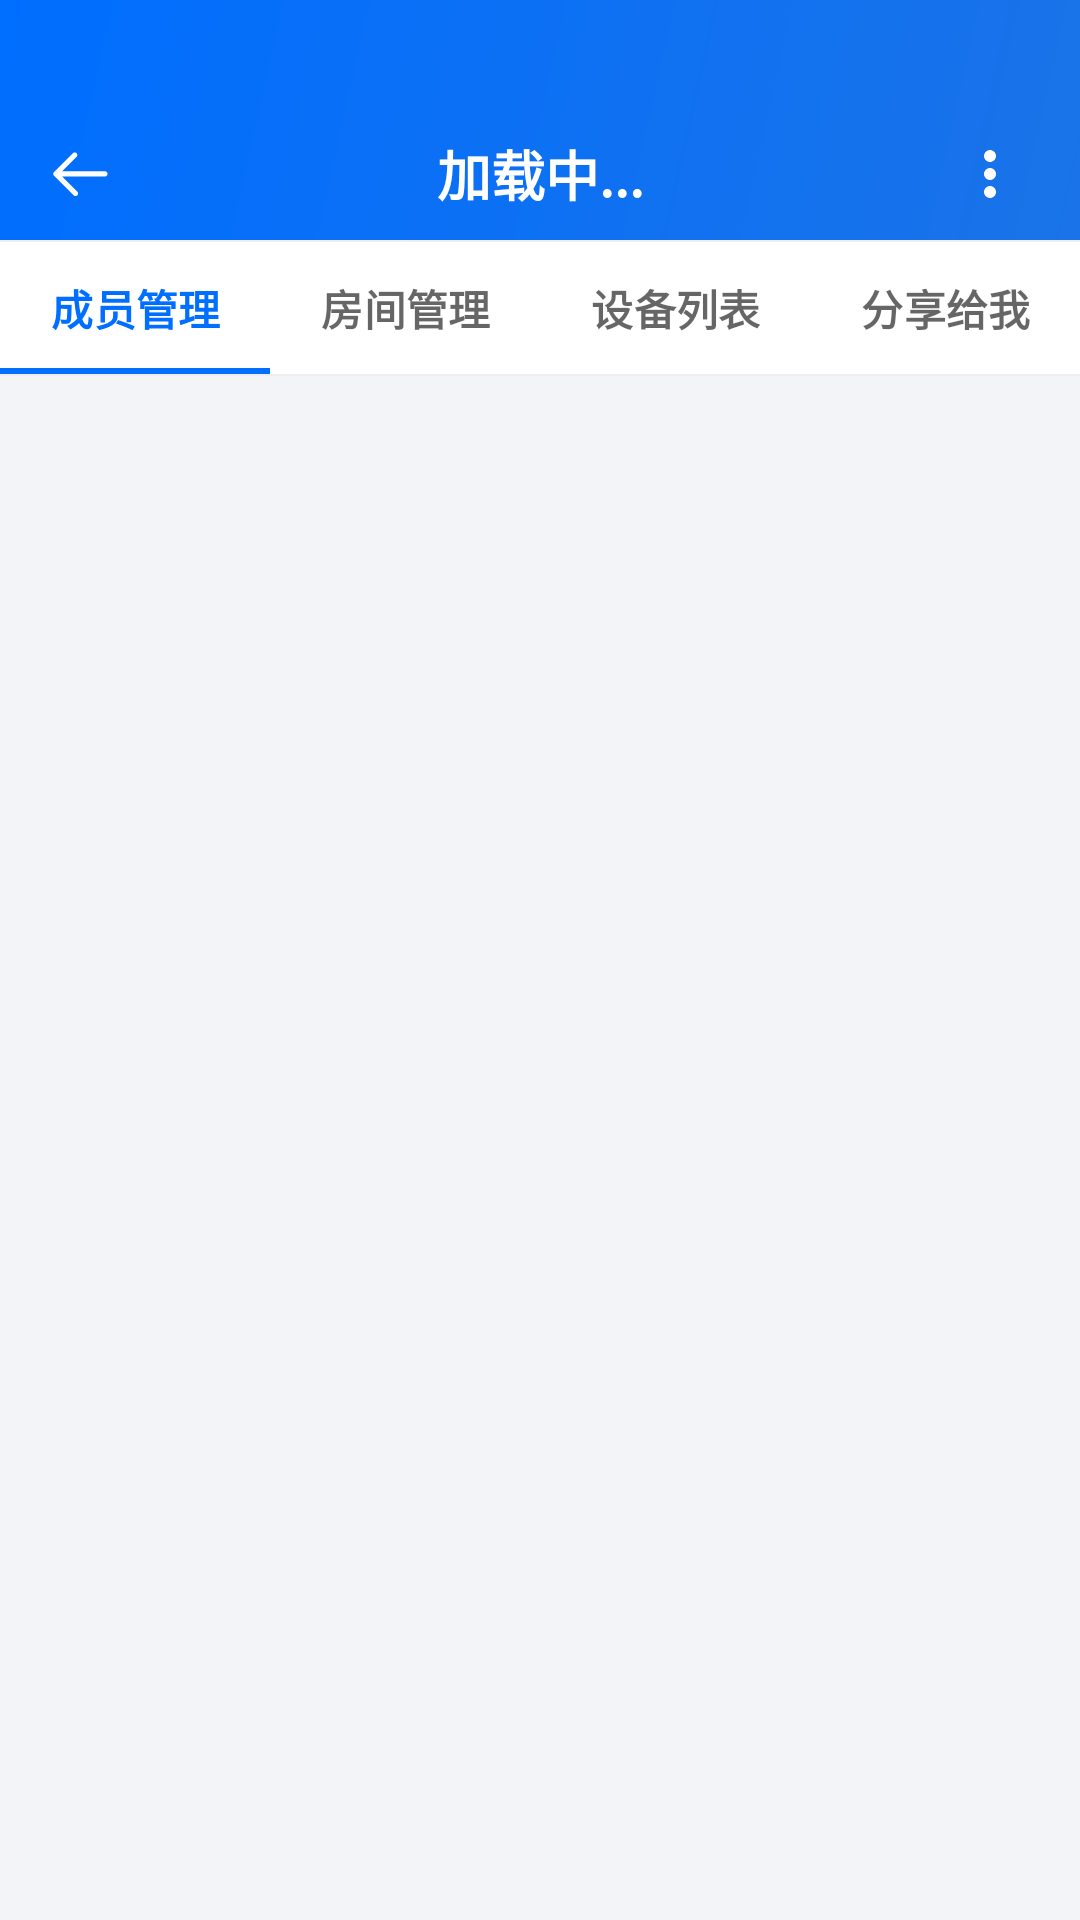

Screen size 1080 × 1920. Icon name, then its box in pixels as bbox=[x1, y1, x2, y2]:
更多操作: bbox=[984, 150, 996, 198]
返回: bbox=[53, 152, 108, 196]
